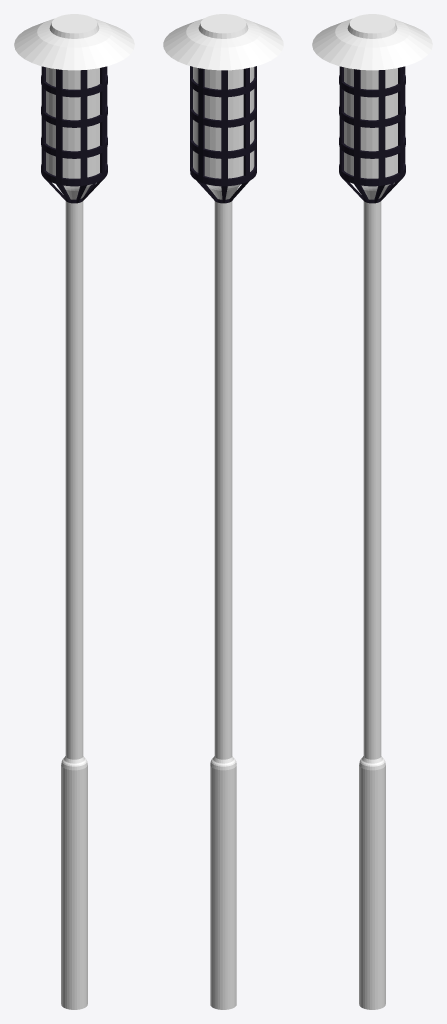
File: lamp_01.obj
The picture shows the model from 3 angles, left to right: view 1: azimuth 90°, elevation 25°; view 2: azimuth 210°, elevation 25°; view 3: azimuth 270°, elevation 25°; orthographic projection.
Parts seen in each view (by area): view 1: Cylinder; view 2: Cylinder; view 3: Cylinder.
Boxes of the visible parts, bbox=[...] form: Cylinder: bbox=[14, 14, 134, 1009]; Cylinder: bbox=[163, 14, 283, 1009]; Cylinder: bbox=[312, 14, 432, 1009].
Bounding box in the file's own units: 0.8535 × 7.64 × 0.8535.
